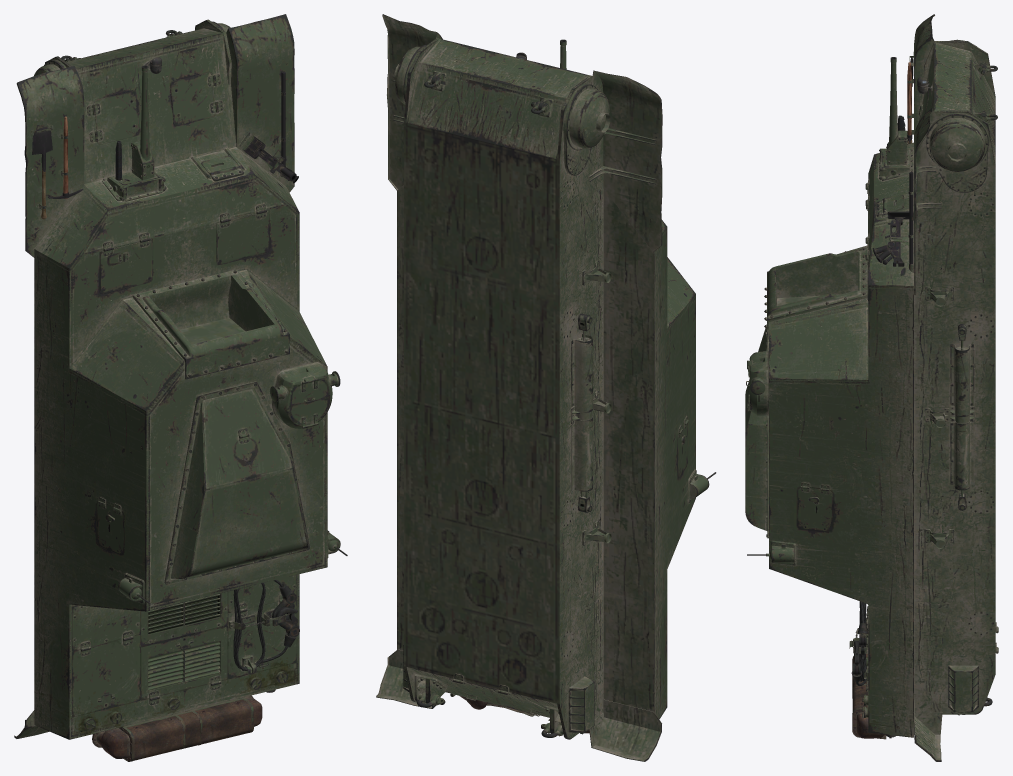
File: Hull.glb
3 views of the same model, side by side, from view 1: azimuth 30°, elevation 25°; view 2: azimuth 150°, elevation 25°; view 3: azimuth 270°, elevation 25° (orthographic). The views are drawn at different scales.
Parts seen in each view (by area): view 1: set_0_group_0; view 2: set_0_group_0; view 3: set_0_group_0.
Boxes of the visible parts, x1,y1,x2,y2 form: set_0_group_0: [14, 14, 347, 761]; set_0_group_0: [376, 14, 716, 761]; set_0_group_0: [745, 14, 998, 761].
Bounding box in the file's own units: 3.09 × 7.4 × 2.65.
1 material, 1 textured.
